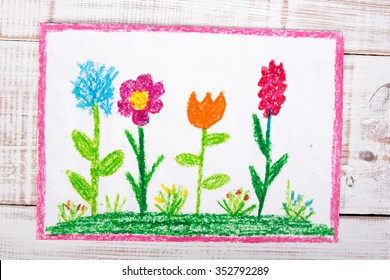flower: (64, 58, 125, 216), (116, 72, 169, 215), (247, 56, 291, 217), (175, 87, 230, 215)
